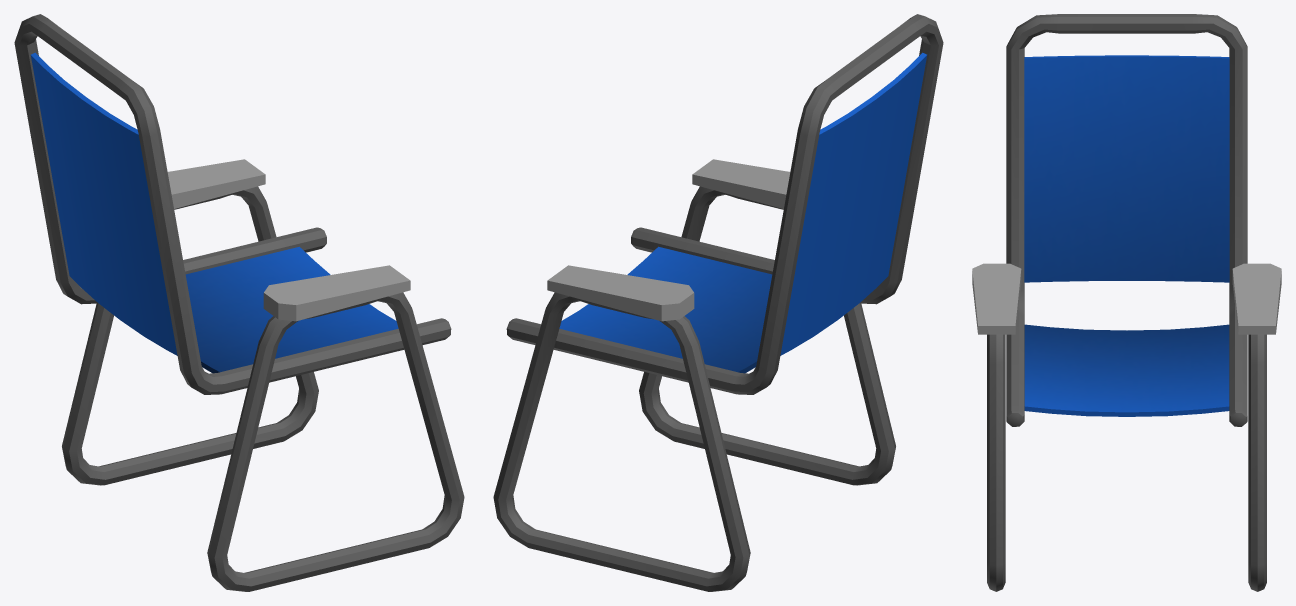
The model's file is Kamp_Sandalyesi.fbx.
The picture shows the model from 3 angles, left to right: view 1: azimuth 30°, elevation 25°; view 2: azimuth 150°, elevation 25°; view 3: azimuth 270°, elevation 25°; orthographic projection. The views are drawn at different scales.
Parts seen in each view (by area): view 1: Circle; view 2: Circle; view 3: Circle.
Boxes of the visible parts, x1=… form: Circle: x1=14, y1=14, x2=464, y2=591; Circle: x1=493, y1=14, x2=943, y2=591; Circle: x1=972, y1=14, x2=1281, y2=591.
Bounding box in the file's own units: 90.5 × 141 × 86.41.
